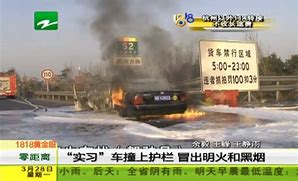smoke: (87, 10, 181, 81)
